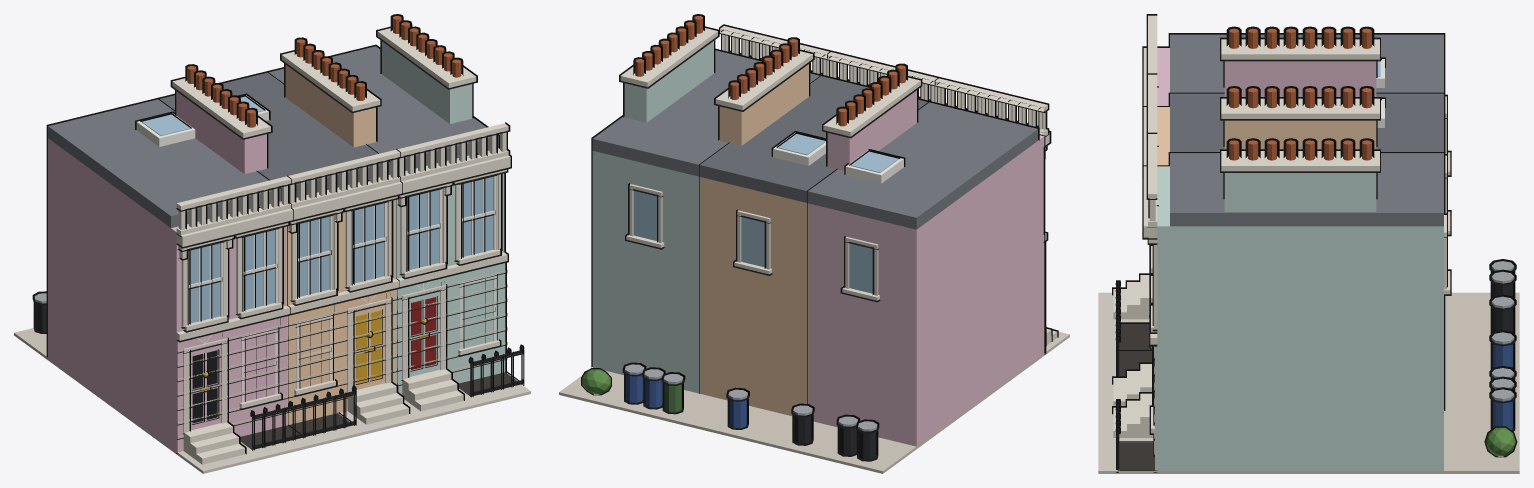
The model's file is Blok_duz_2k_3.fbx.
3 renders of one model, left to right at view 1: azimuth 30°, elevation 25°; view 2: azimuth 150°, elevation 25°; view 3: azimuth 270°, elevation 25°, orthographic. The views are drawn at different scales.
Visible parts, largest first — view 1: Blok_duz_2k_3; view 2: Blok_duz_2k_3; view 3: Blok_duz_2k_3.
Boxes of the visible parts, x1,y1,x2,y2 form: Blok_duz_2k_3: [14, 14, 530, 473]; Blok_duz_2k_3: [559, 14, 1069, 473]; Blok_duz_2k_3: [1098, 14, 1519, 473].
Bounding box in the file's own units: 10.1 × 8.52 × 10.
